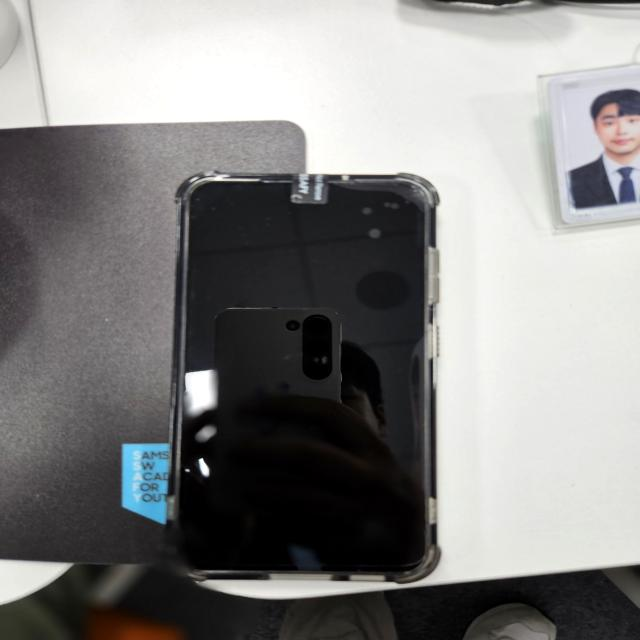phone: (168, 168, 444, 589)
sticker: (288, 166, 332, 206)
